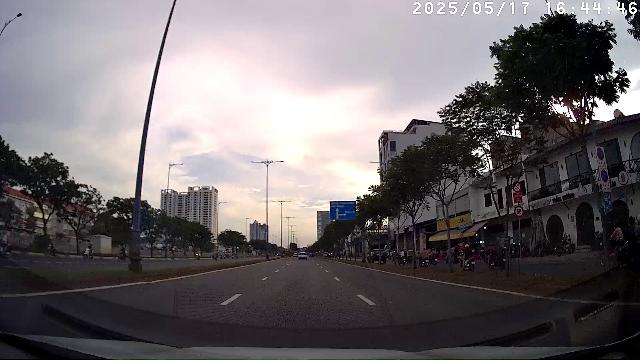127-toc-do-toi-da-50: (514, 205, 524, 217)
